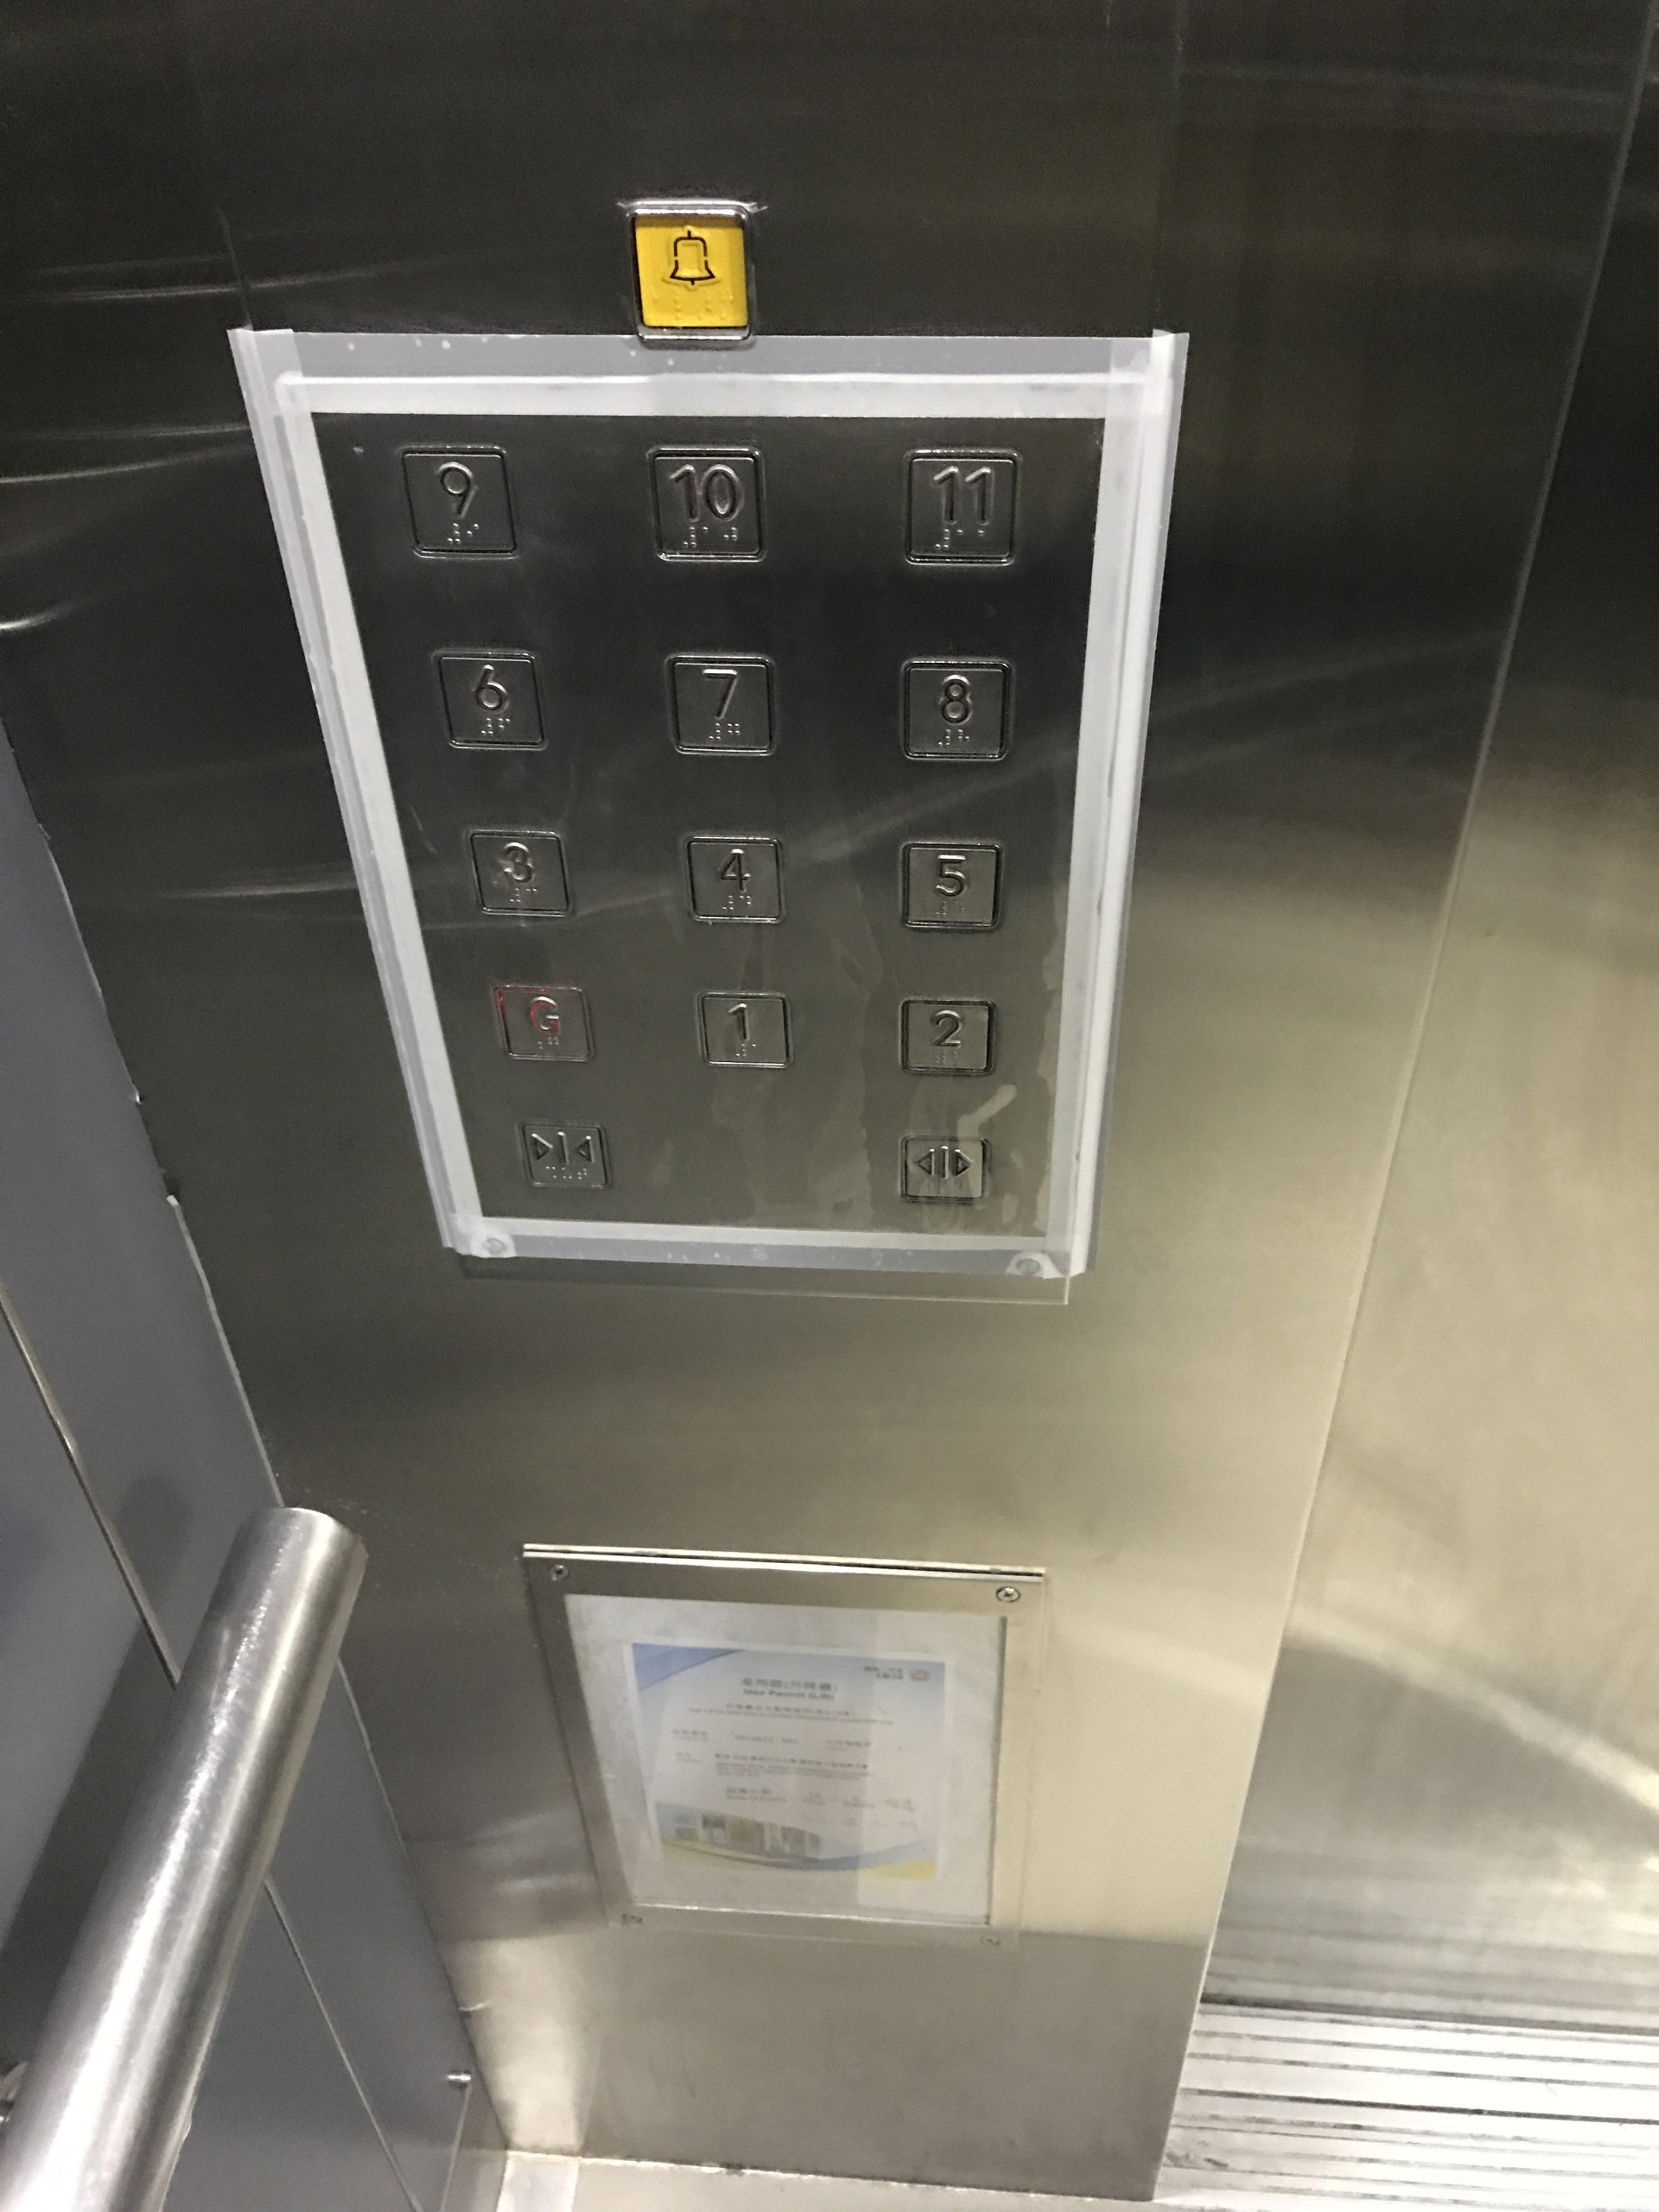1: (694, 984, 798, 1073)
10: (641, 437, 772, 570)
11: (901, 442, 1028, 575)
2: (894, 991, 1002, 1082)
3: (464, 822, 575, 925)
4: (676, 827, 791, 930)
5: (896, 833, 1007, 941)
6: (422, 641, 552, 758)
7: (660, 646, 782, 765)
8: (897, 650, 1016, 766)
9: (394, 441, 523, 564)
G: (484, 975, 601, 1069)
alarm: (619, 197, 762, 352)
close: (516, 1115, 619, 1198)
open: (894, 1129, 993, 1207)
